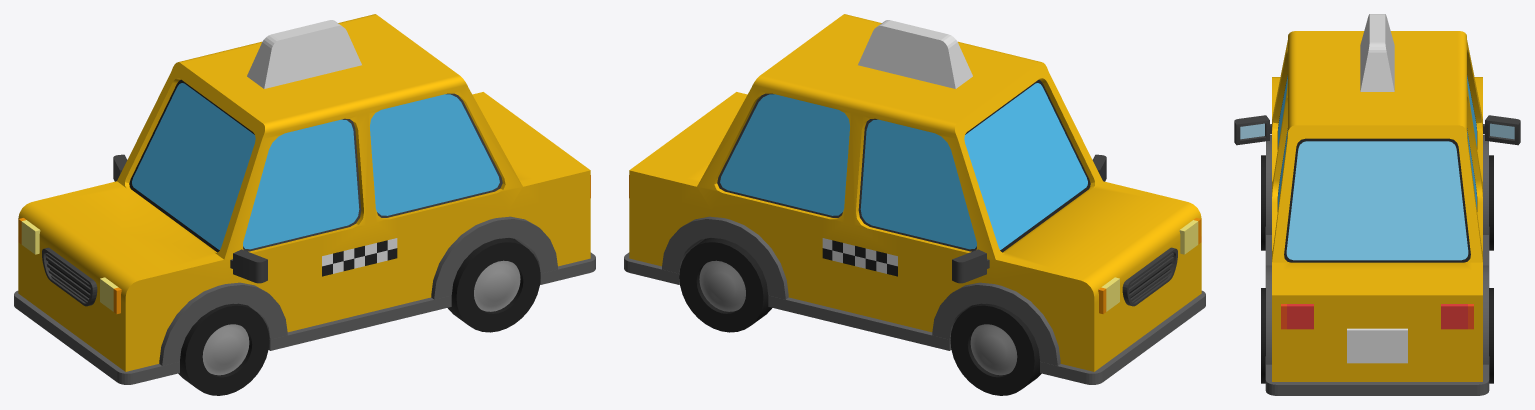
File: taxi.fbx
3 renders of one model, left to right at view 1: azimuth 30°, elevation 25°; view 2: azimuth 150°, elevation 25°; view 3: azimuth 270°, elevation 25°, orthographic.
Visible parts, largest first — view 1: Cube.642; view 2: Cube.642; view 3: Cube.642.
Part boxes in pixels (x1=…): Cube.642: x1=14, y1=14, x2=595, y2=395; Cube.642: x1=624, y1=14, x2=1205, y2=395; Cube.642: x1=1234, y1=14, x2=1520, y2=395.
Size of the model in its own units: 217 by 127 by 115.
Materials: 1 (1 with a texture image).
